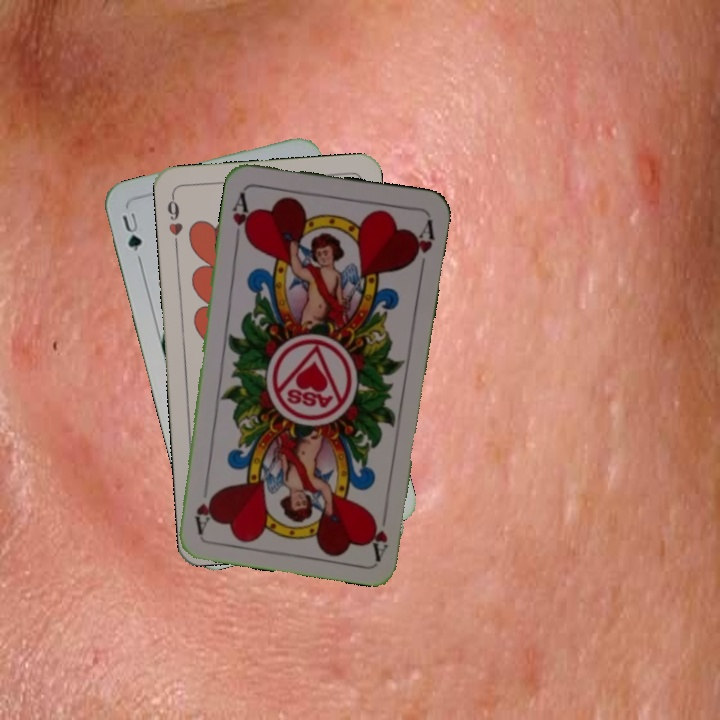GU: (118, 208, 145, 254)
H9: (163, 191, 185, 250)
HA: (227, 187, 255, 246), (365, 502, 391, 561)
